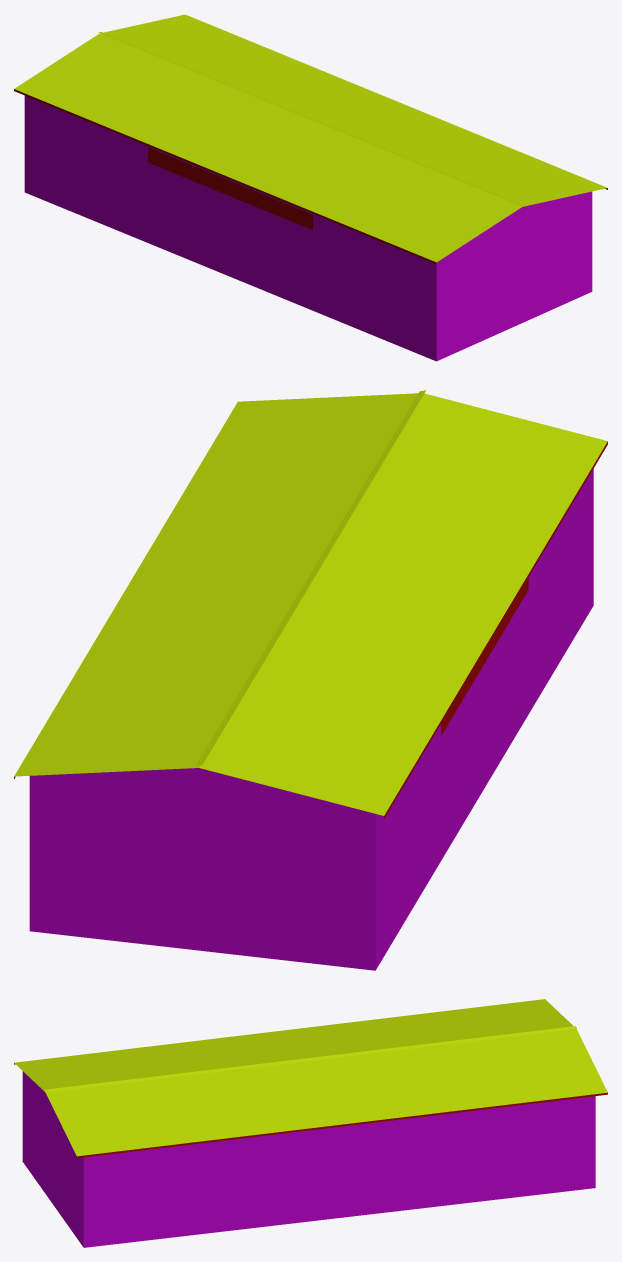
Rendered from sdt_29.glb.
3 renders of one model, top to bottom at view 1: azimuth 30°, elevation 25°; view 2: azimuth 150°, elevation 25°; view 3: azimuth 270°, elevation 25°, orthographic. The views are drawn at different scales.
Parts seen in each view (by area): view 1: sdt_29; view 2: sdt_29; view 3: sdt_29.
Boxes of the visible parts, box(x1,y1,x2,y2) form: sdt_29: box(14, 14, 607, 361); sdt_29: box(14, 390, 607, 970); sdt_29: box(14, 999, 607, 1247).
Bounding box in the file's own units: 21 × 7.22 × 33.51.
